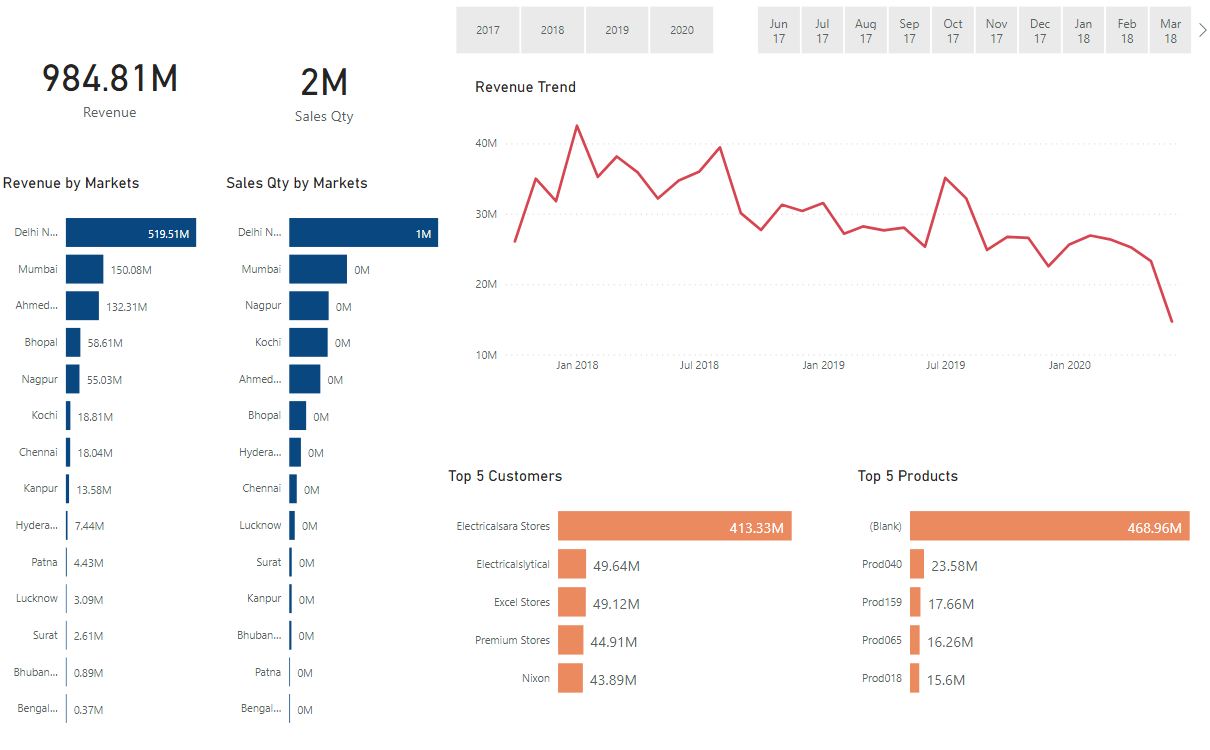

This screenshot's page, from the dashboard's own definition file:
{"tool":"powerbi","page":{"name":"Key Insights","canvas":[1350,850],"ordinal":0},"visuals":[{"type":"card","fields":{"Values":["BaseMeasures (2).Revenue"]},"box":[0,0,247.9,184.6],"z":0},{"type":"card","fields":{"Values":["BaseMeasures (2).Sales Qty"]},"box":[247.9,0,227.9,193.1],"z":1000},{"type":"barChart","title":"Revenue by Markets","fields":{"Y":["BaseMeasures (2).Revenue"],"Category":["sales markets.markets_name"]},"box":[0,193.1,247.9,631.9],"z":2000},{"type":"barChart","title":"Sales Qty by Markets","fields":{"Y":["BaseMeasures (2).Sales Qty"],"Category":["sales markets.markets_name"]},"box":[247.9,193.1,247.9,631.9],"z":3000},{"type":"slicer","fields":{"Values":["sales date.year"]},"box":[483.2,0,335.5,66.5],"z":4000},{"type":"slicer","fields":{"Values":["sales date.cy_date"]},"box":[818.6,0,531.7,66.5],"z":5000},{"type":"barChart","title":"Top 5 Customers","fields":{"Y":["BaseMeasures (2).Revenue"],"Category":["sales customers.custmer_name"]},"box":[495.8,519,446.2,274.3],"z":6000},{"type":"barChart","title":"Top 5 Products","fields":{"Y":["BaseMeasures (2).Revenue"],"Category":["sales products.product_code"]},"box":[950.7,519.2,399.5,282.8],"z":7000},{"type":"lineChart","title":"Revenue Trend","fields":{"Y":["BaseMeasures (2).Revenue"],"Category":["sales date.cy_date"]},"box":[513.8,104.4,809.1,338.6],"z":8000}]}

Visuals, with their boxes in screenshot pixels (x1, y1, x2, y2), scaled from the page's 1350x850 canvas onto the 1210x750 screenshot:
card - BaseMeasures (2).Revenue: box(0, 0, 222, 163)
card - BaseMeasures (2).Sales Qty: box(222, 0, 426, 170)
"Revenue by Markets" barChart: box(0, 170, 222, 728)
"Sales Qty by Markets" barChart: box(222, 170, 444, 728)
slicer - sales date.year: box(433, 0, 734, 59)
slicer - sales date.cy_date: box(734, 0, 1209, 59)
"Top 5 Customers" barChart: box(444, 458, 844, 700)
"Top 5 Products" barChart: box(852, 458, 1209, 708)
"Revenue Trend" lineChart: box(461, 92, 1186, 391)
